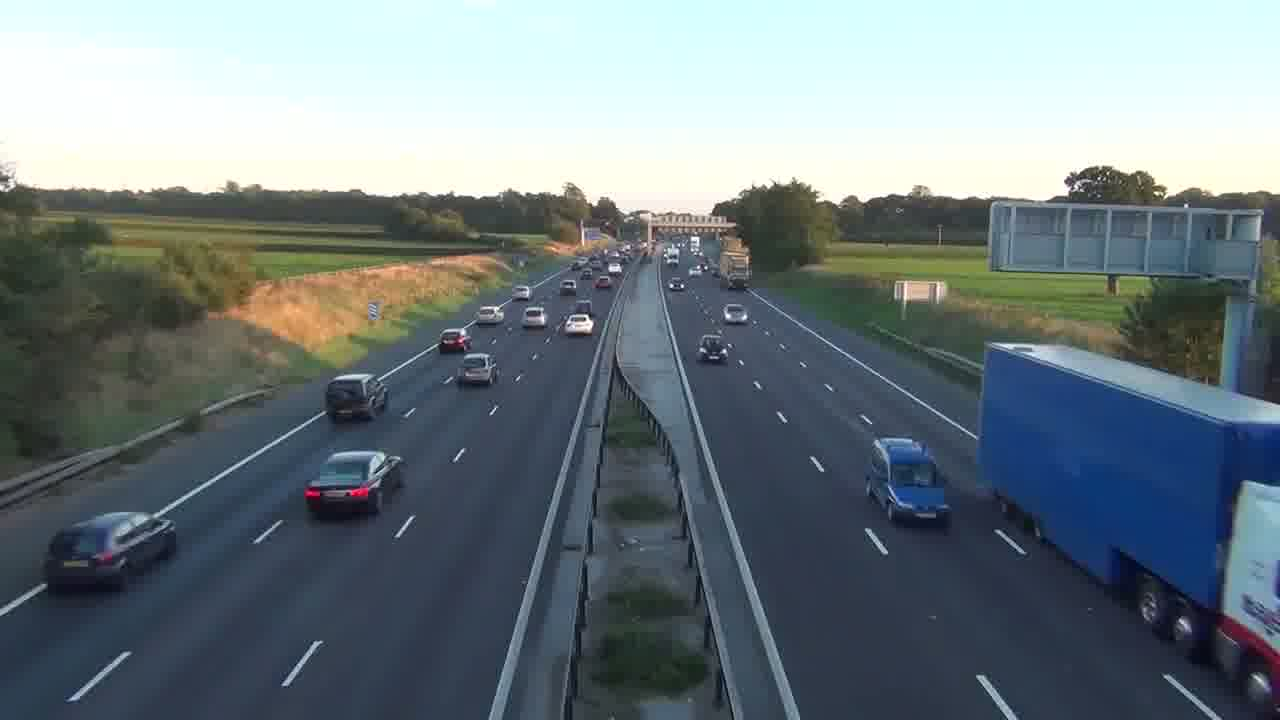car: (43, 510, 178, 592), (303, 448, 402, 518), (324, 372, 388, 422), (457, 351, 499, 388), (696, 333, 729, 363), (439, 328, 470, 354), (562, 313, 595, 337), (722, 303, 751, 325), (522, 305, 547, 330)
truck: (976, 340, 1279, 712), (864, 436, 952, 527)
